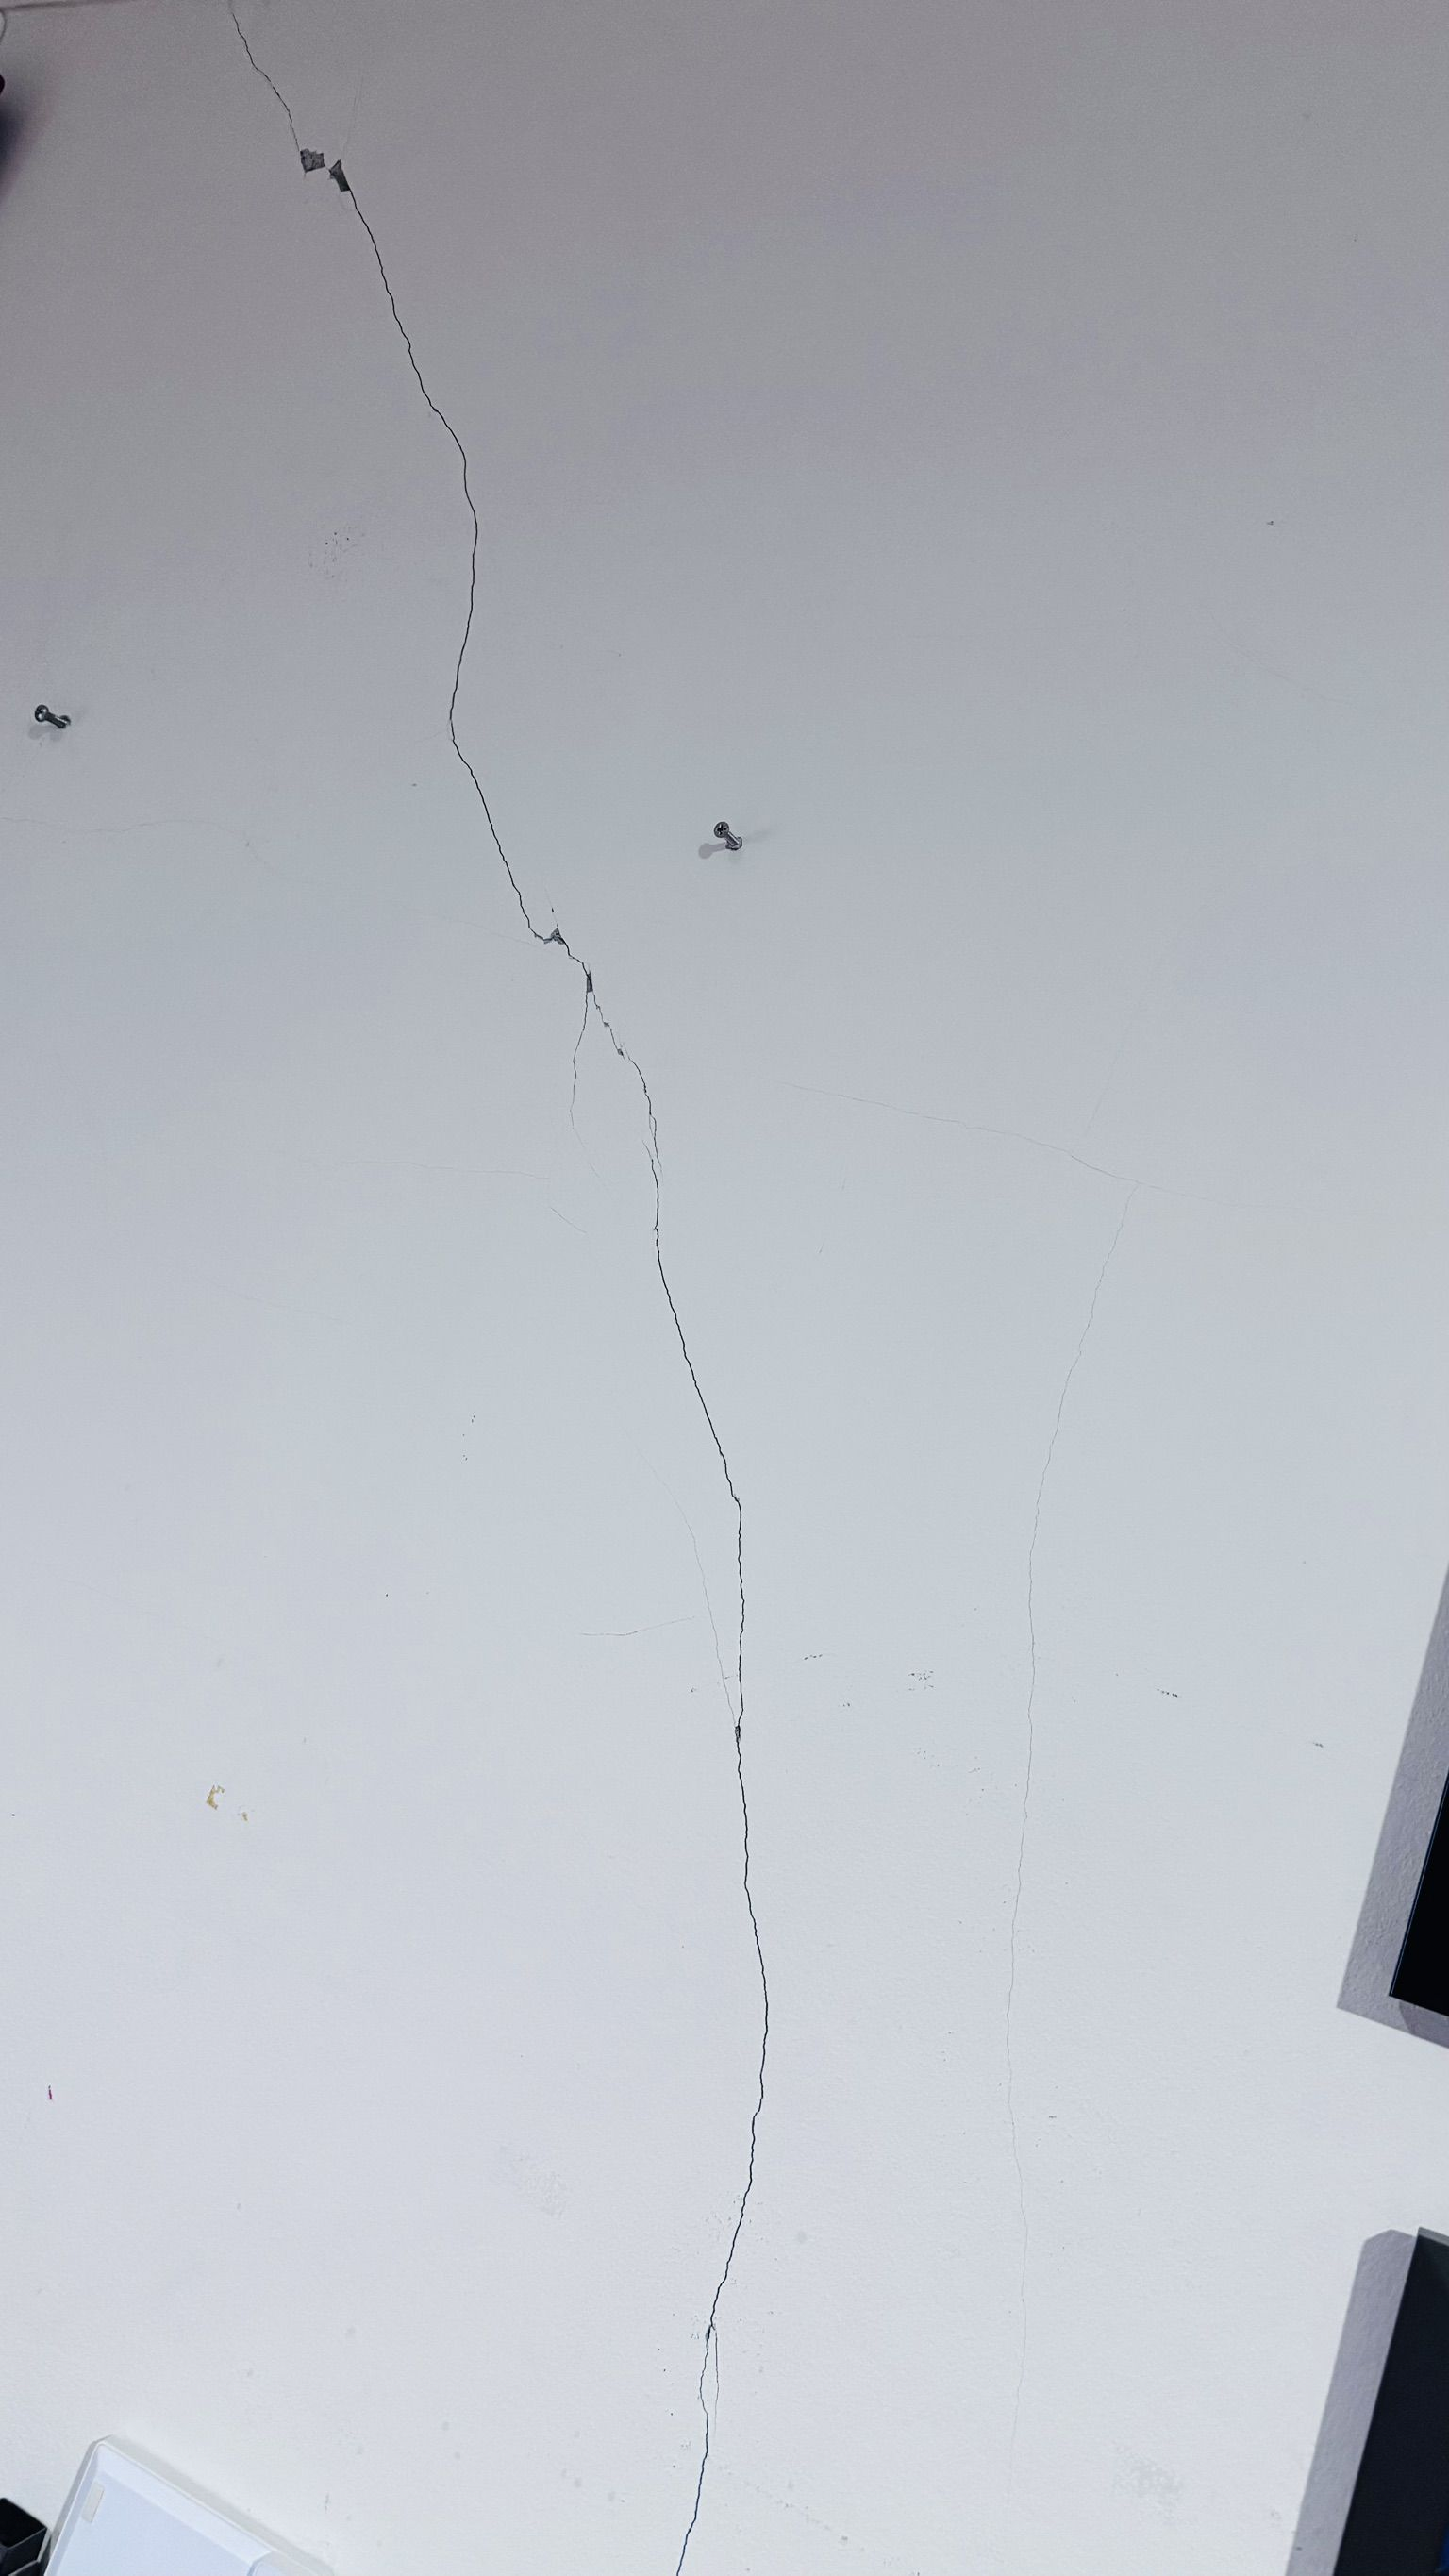Low: (2, 2, 878, 2576)
